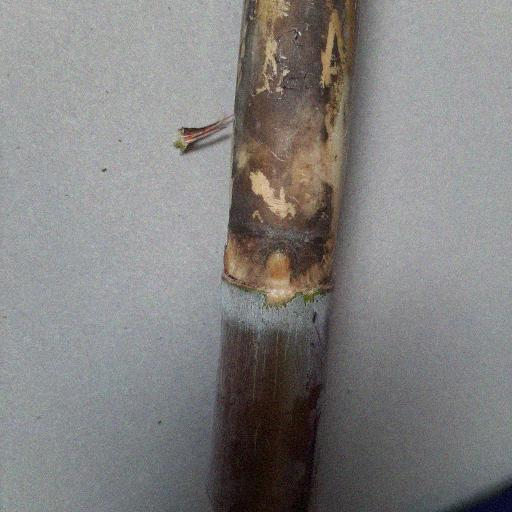Bud: (263, 244, 294, 279)
